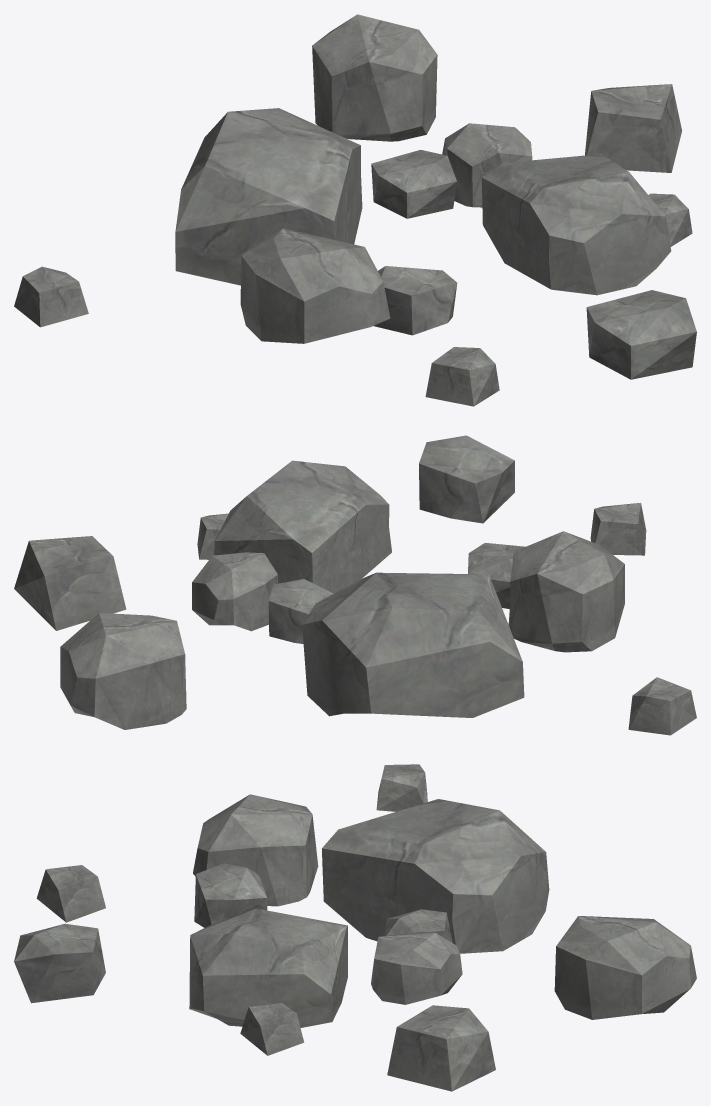
File: CollectibleStone (1).fbx
3 views of the same model, one above another, from view 1: azimuth 30°, elevation 25°; view 2: azimuth 150°, elevation 25°; view 3: azimuth 270°, elevation 25° (orthographic). The views are drawn at different scales.
Visible parts, largest first — view 1: ItemBox_Pebbles_01; view 2: ItemBox_Pebbles_01; view 3: ItemBox_Pebbles_01.
Part boxes in pixels (x1,y1,x2,y2): ItemBox_Pebbles_01: (14, 14, 696, 406); ItemBox_Pebbles_01: (14, 435, 696, 735); ItemBox_Pebbles_01: (14, 764, 696, 1091).
Size of the model in its own units: 1.63 by 0.2778 by 1.57.
Materials: 1 (1 with a texture image).
